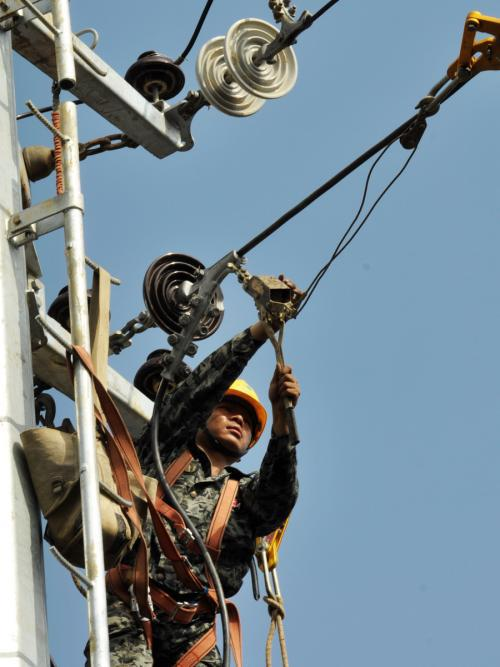helmet: (202, 373, 274, 465)
